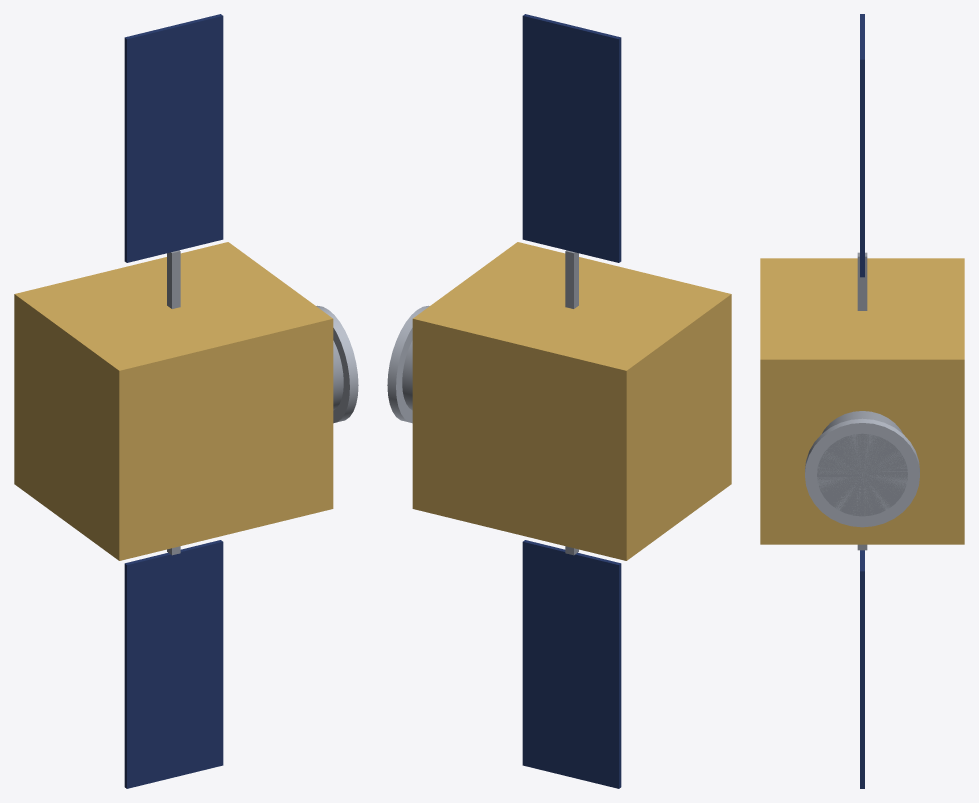
File: chaser.obj
3 renders of one model, left to right at view 1: azimuth 30°, elevation 25°; view 2: azimuth 150°, elevation 25°; view 3: azimuth 270°, elevation 25°, orthographic. The views are drawn at different scales.
Visible parts, largest first — view 1: chaser; view 2: chaser; view 3: chaser.
Part boxes in pixels (left/top/right/bottom): chaser: left=14, top=14, right=358, bottom=788; chaser: left=387, top=14, right=731, bottom=788; chaser: left=760, top=14, right=964, bottom=788.
Bounding box in the file's own units: 2.45 × 6.7 × 1.7.
